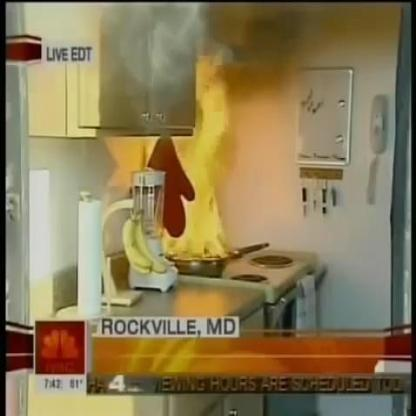fire: (168, 136, 229, 264)
